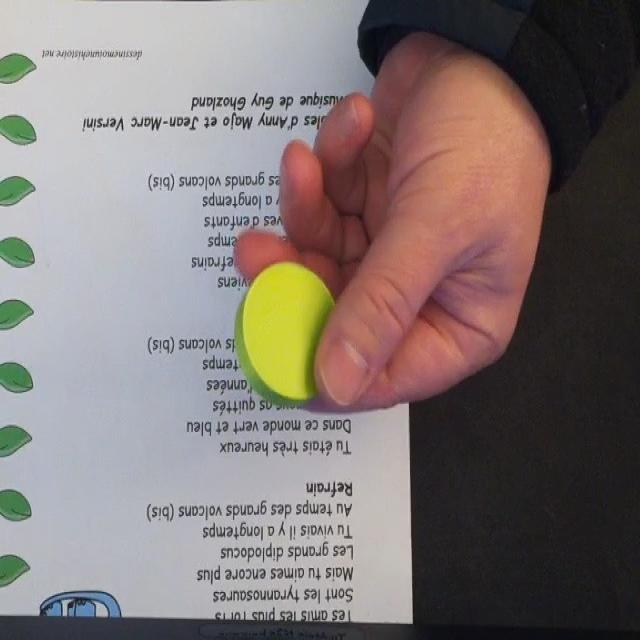round: (234, 262, 348, 408)
